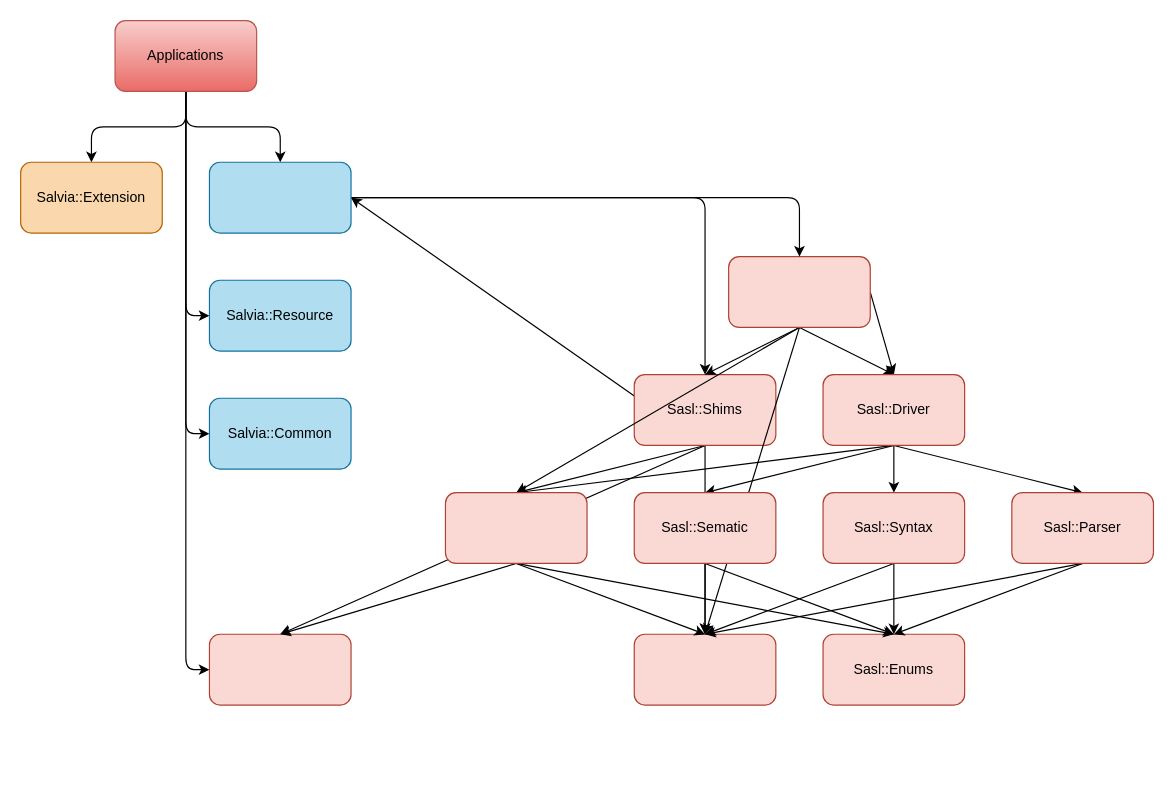
Some shapes in this 1174 by 796 pixel diagram are drawn without their labels. The shapes that lost their labels are listed below. From the top down, each one's centre as x and y in pixels, then its label:
At point 279,197: "Salvia::Core".
At point 798,291: "Sasl::Host".
At point 515,527: "Sasl::CodeGen".
At point 279,669: "Salvia::Shader".
At point 704,669: "Sasl::Common".
